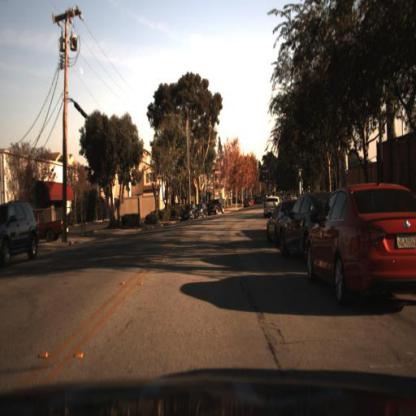car: (307, 181, 416, 306), (276, 192, 313, 268), (1, 201, 41, 263), (40, 206, 74, 247), (267, 202, 286, 251), (205, 197, 231, 224), (180, 201, 200, 226), (263, 197, 279, 224), (198, 200, 209, 220)
